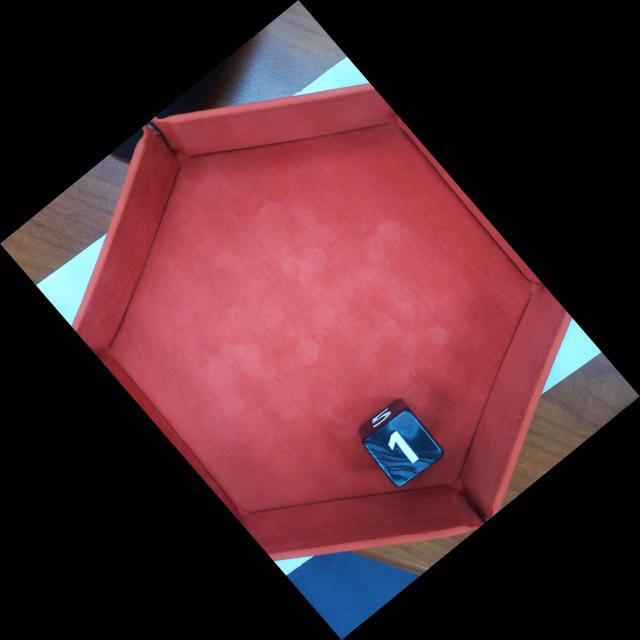dice: (360, 409, 446, 489)
